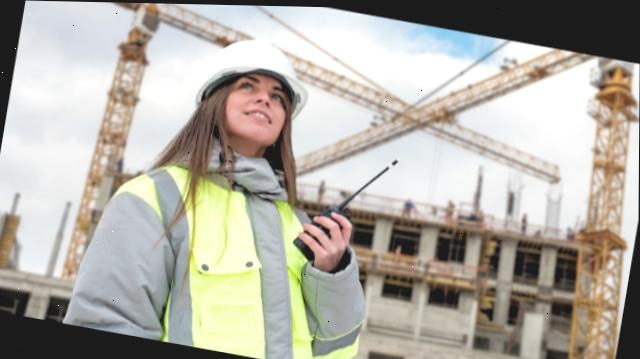helmet: (194, 23, 312, 120)
vest: (142, 159, 331, 359)
